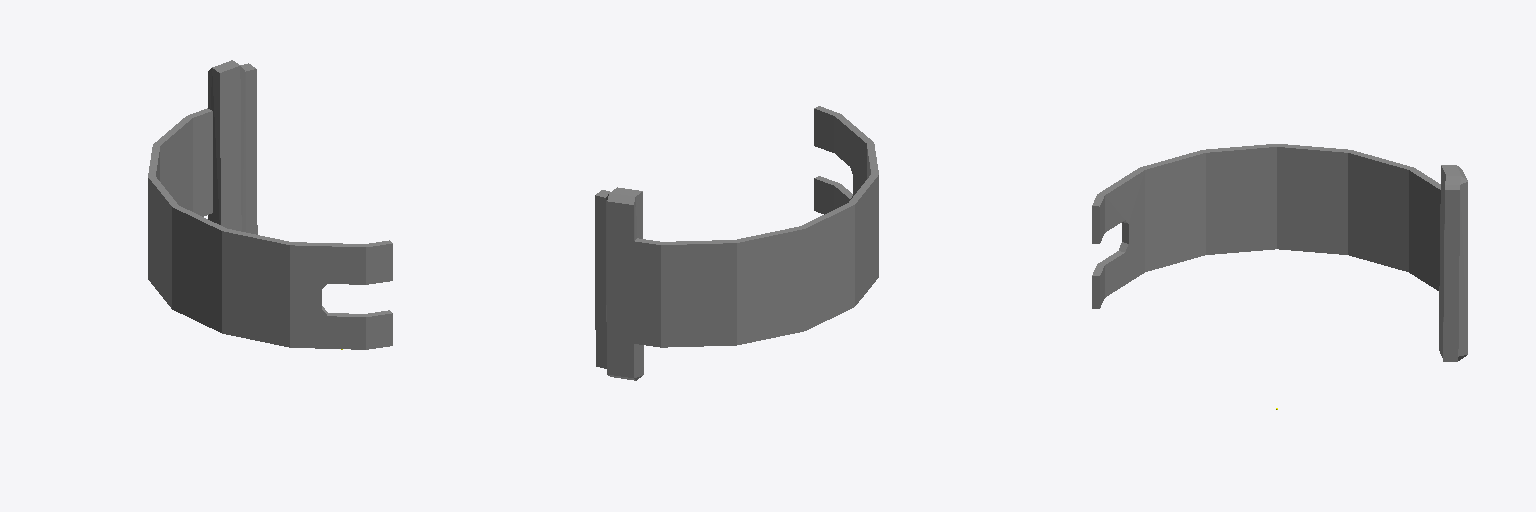
File: cpz_obj_pipelinecapA_brk_013.obj
The picture shows the model from 3 angles: view 1: azimuth 30°, elevation 25°; view 2: azimuth 150°, elevation 25°; view 3: azimuth 270°, elevation 25°; orthographic projection.
Parts seen in each view (by area): view 1: ccp_metal_yy_floor3_Cmn_dpn, cpz_metal_st1_floor01_Lumi_dpnE, ccp_metal_yy_gray_Cmn_dpn; view 2: ccp_metal_yy_floor3_Cmn_dpn, cpz_metal_st1_floor01_Lumi_dpnE, ccp_metal_yy_gray_Cmn_dpn; view 3: ccp_metal_yy_floor3_Cmn_dpn, ccp_metal_yy_gray_Cmn_dpn.
Boxes of the visible parts, x1=… form: ccp_metal_yy_floor3_Cmn_dpn: x1=148, y1=60, x2=392, y2=349; cpz_metal_st1_floor01_Lumi_dpnE: x1=240, y1=63, x2=257, y2=234; ccp_metal_yy_gray_Cmn_dpn: x1=148, y1=108, x2=392, y2=316; ccp_metal_yy_floor3_Cmn_dpn: x1=606, y1=109, x2=878, y2=380; cpz_metal_st1_floor01_Lumi_dpnE: x1=595, y1=190, x2=609, y2=368; ccp_metal_yy_gray_Cmn_dpn: x1=635, y1=106, x2=878, y2=244; ccp_metal_yy_floor3_Cmn_dpn: x1=1100, y1=147, x2=1467, y2=360; ccp_metal_yy_gray_Cmn_dpn: x1=1092, y1=144, x2=1459, y2=361.
Size of the model in its own units: 25.48 by 32.28 by 48.68.